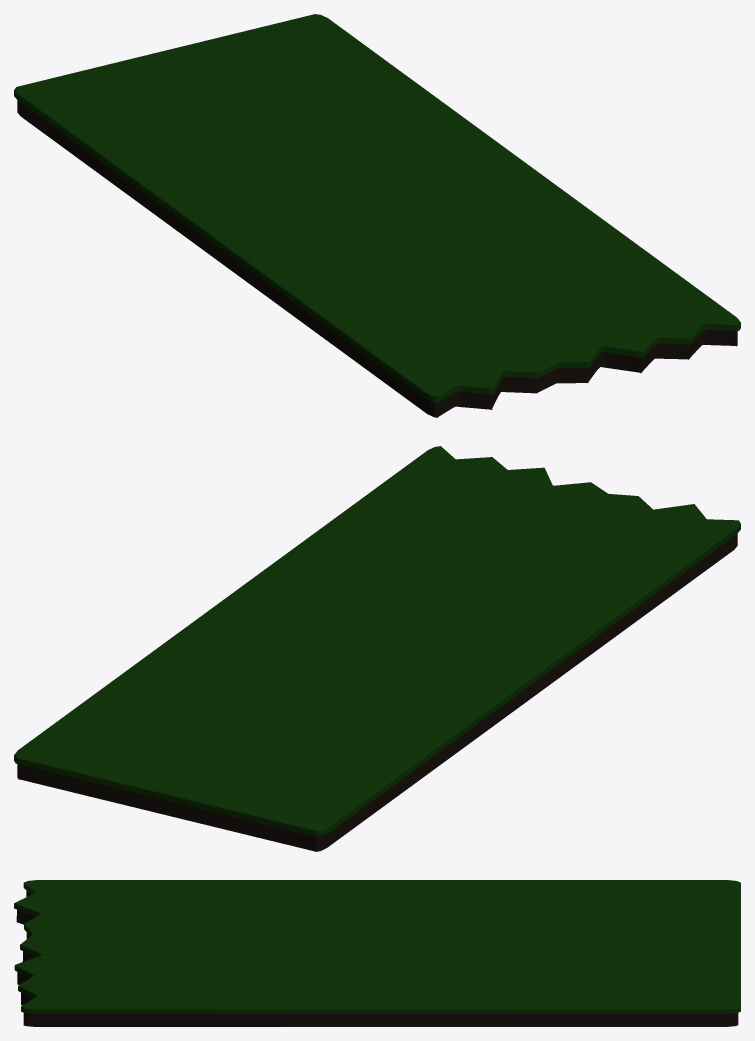
File: LawnIsland.FBX
3 renders of one model, top to bottom at view 1: azimuth 30°, elevation 25°; view 2: azimuth 150°, elevation 25°; view 3: azimuth 270°, elevation 25°, orthographic. The views are drawn at different scales.
Parts seen in each view (by area): view 1: Grass, Dirt; view 2: Grass, Dirt; view 3: Grass, Dirt.
Boxes of the visible parts, <box> form: Grass: <box>14,14,740,402</box>; Dirt: <box>17,100,737,417</box>; Grass: <box>14,446,740,836</box>; Dirt: <box>17,534,737,851</box>; Grass: <box>14,880,740,1013</box>; Dirt: <box>16,890,738,1026</box>.
Size of the model in its own units: 10361 by 751 by 24718.
